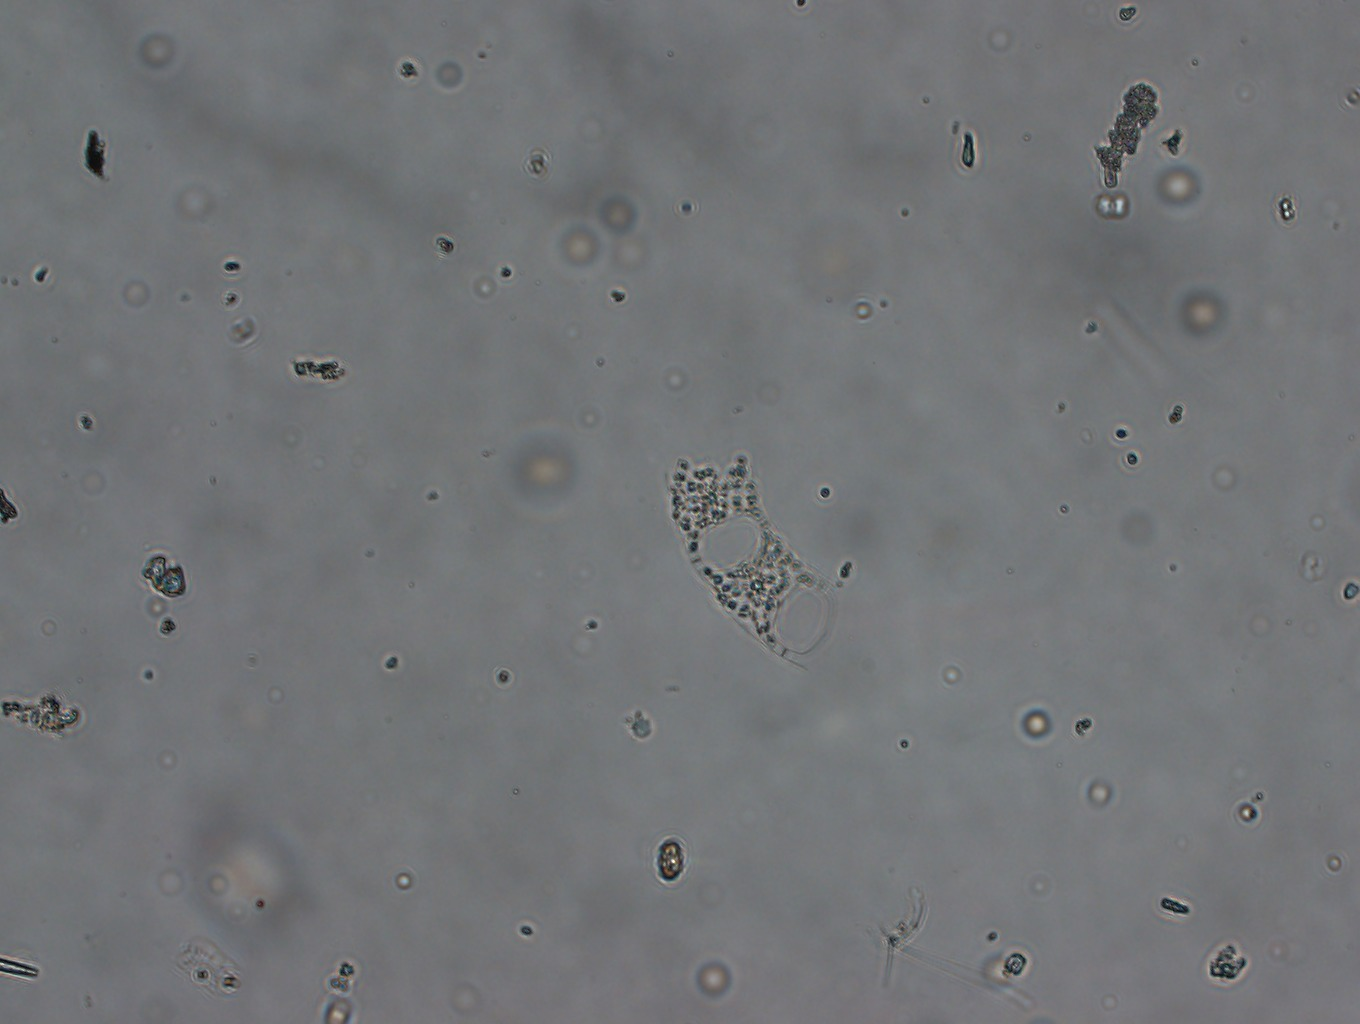eucampia: (657, 411, 879, 685)
